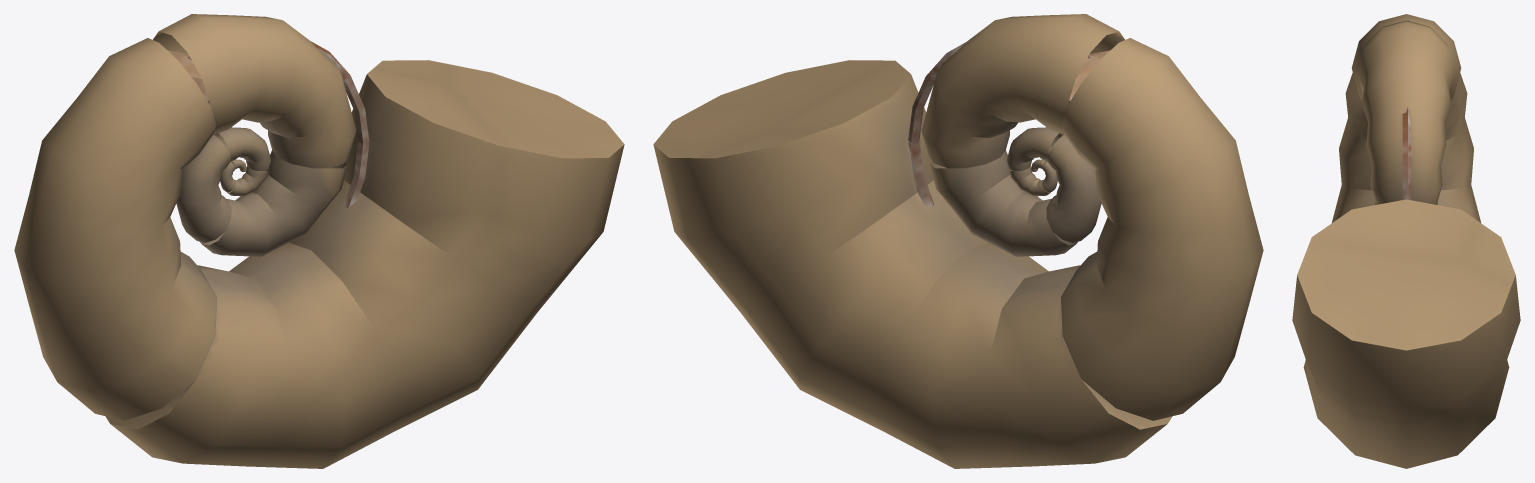
Rendered from ammonite.glb.
3 renders of one model, left to right at view 1: azimuth 30°, elevation 25°; view 2: azimuth 150°, elevation 25°; view 3: azimuth 270°, elevation 25°, orthographic. The views are drawn at different scales.
Parts seen in each view (by area): view 1: SM_Ammonite; view 2: SM_Ammonite; view 3: SM_Ammonite.
Boxes of the visible parts, box(x1,y1,x2,y2) form: SM_Ammonite: box(14, 14, 624, 468); SM_Ammonite: box(653, 14, 1263, 468); SM_Ammonite: box(1292, 14, 1520, 468).
Bounding box in the file's own units: 0.7796 × 0.5979 × 0.326.
2 materials, 2 textured.
